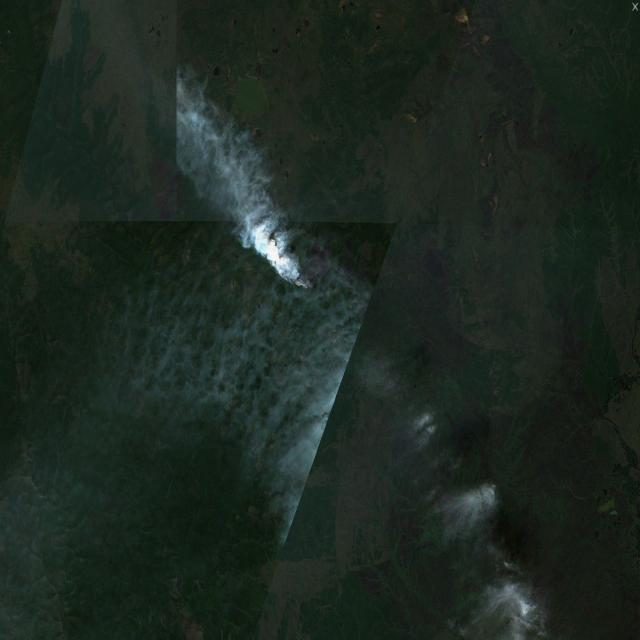fire: (274, 252, 318, 297)
